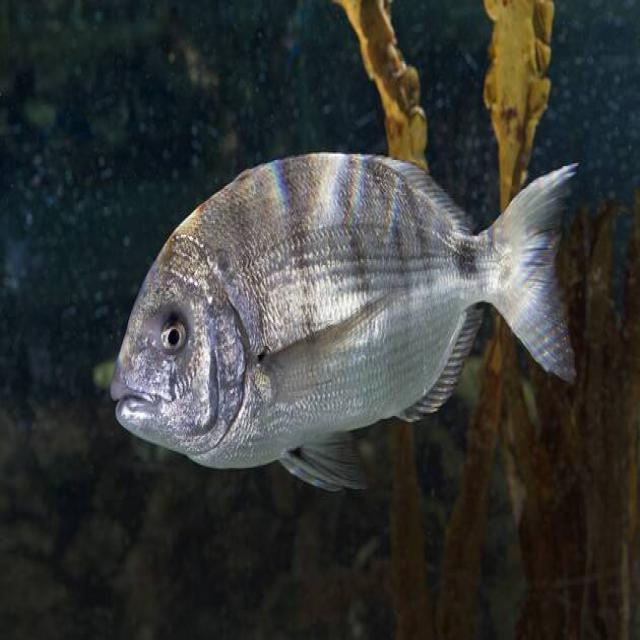Healthy Fish: (99, 148, 604, 489)
